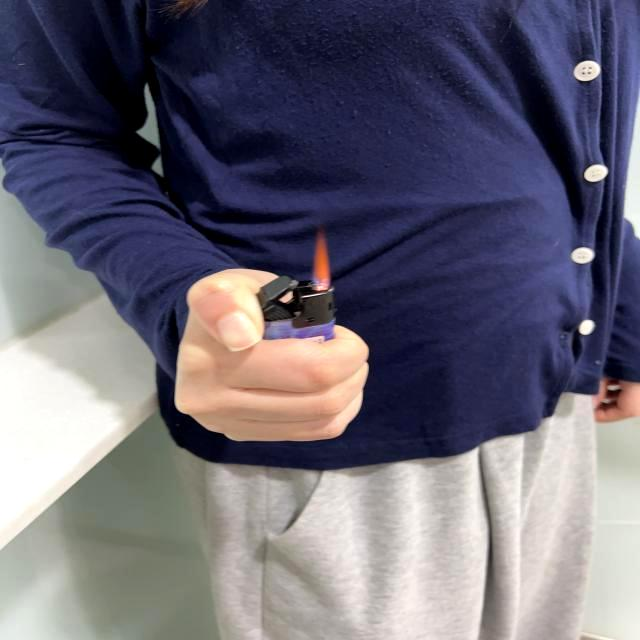fire: (310, 232, 330, 288)
